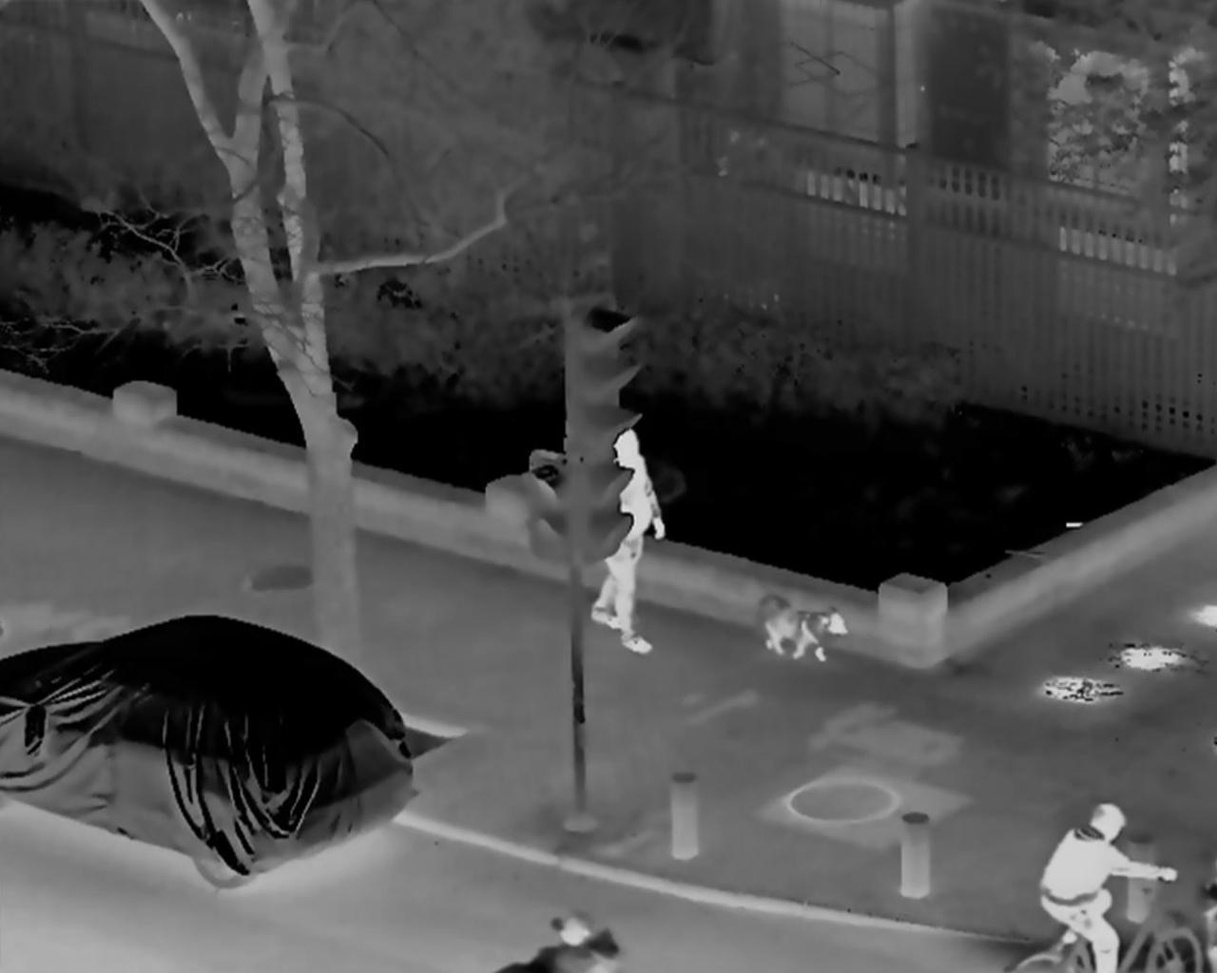person: (1034, 803, 1186, 969), (571, 427, 670, 657)
